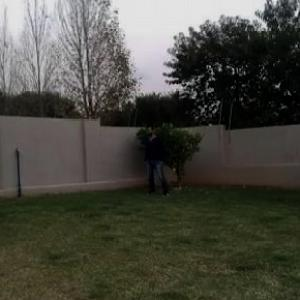follow: (146, 121, 164, 197)
